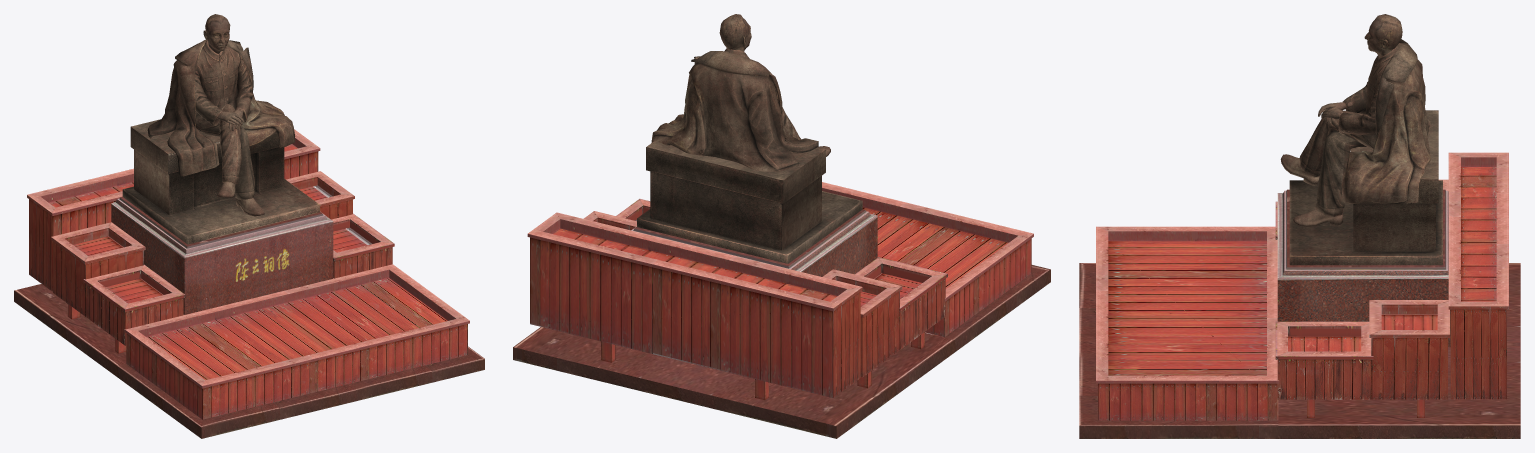
File: Building_ChenyunStatus.FBX
3 views of the same model, side by side, from view 1: azimuth 30°, elevation 25°; view 2: azimuth 150°, elevation 25°; view 3: azimuth 270°, elevation 25° (orthographic). The views are drawn at different scales.
Parts seen in each view (by area): view 1: Building_ChenyunStatus01, Building_ChenyunStatus; view 2: Building_ChenyunStatus01, Building_ChenyunStatus; view 3: Building_ChenyunStatus01, Building_ChenyunStatus.
Boxes of the visible parts, left/top/right/bottom form: Building_ChenyunStatus01: left=14, top=129, right=484, bottom=438; Building_ChenyunStatus: left=122, top=14, right=319, bottom=244; Building_ChenyunStatus01: left=513, top=182, right=1050, bottom=438; Building_ChenyunStatus: left=637, top=14, right=862, bottom=263; Building_ChenyunStatus01: left=1079, top=152, right=1520, bottom=438; Building_ChenyunStatus: left=1280, top=14, right=1442, bottom=265.
Bounding box in the file's own units: 406 × 401 × 465.
